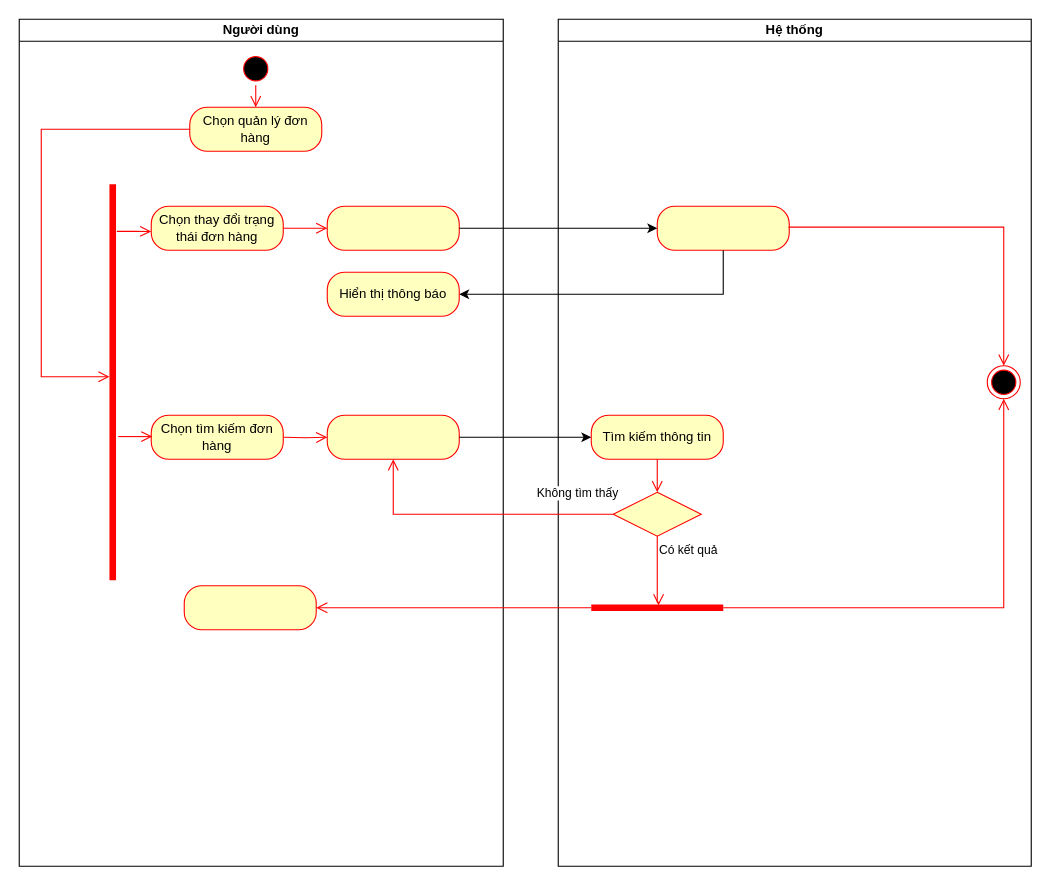
This 1051x886 diagram has some shape labels left out. The shapes that lost their labels are listed below. From the top down, each one's centre as x and y in pixels, then its label:
the point at 392,227: Chọn trạng thái
the point at 722,227: Lưu đơn hàng
the point at 392,436: Nhập từ khóa
the point at 249,607: Hiển thị thông tin
